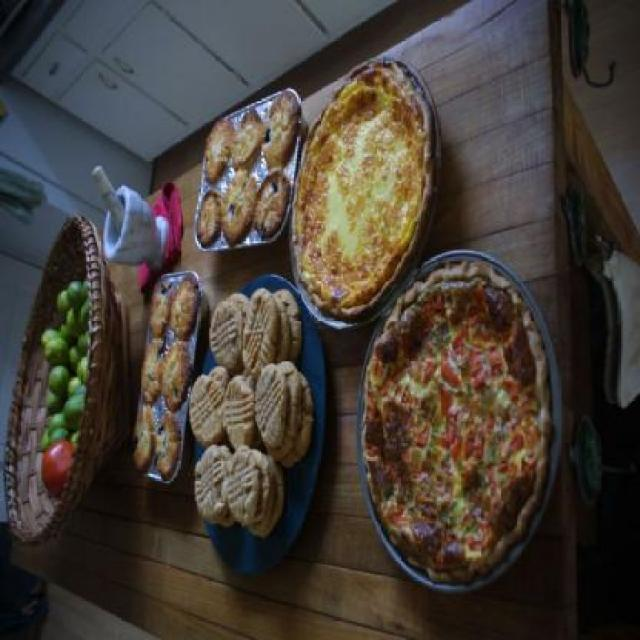Cookie: (184, 290, 318, 542)
